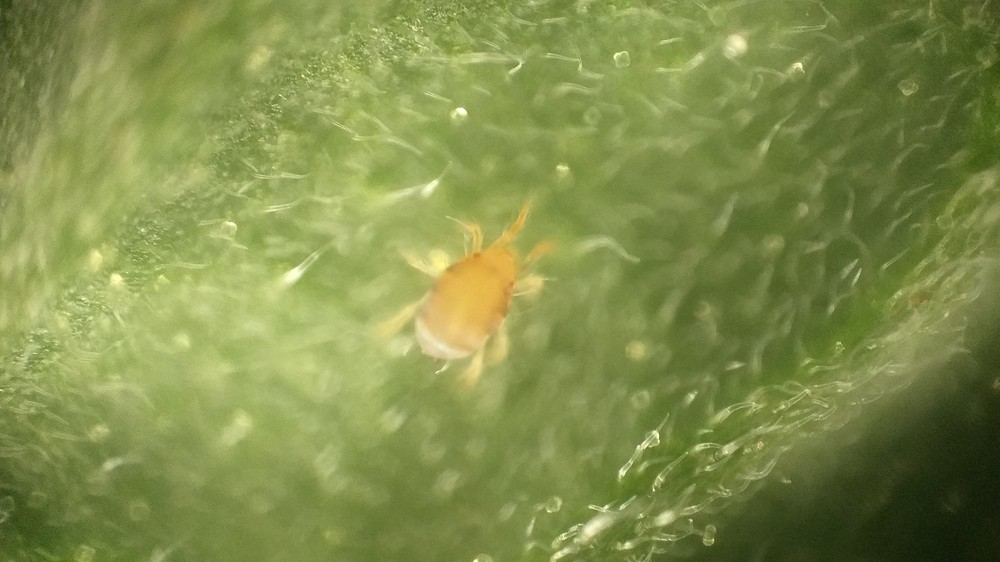Aracnido Rojo: (366, 186, 573, 385)
